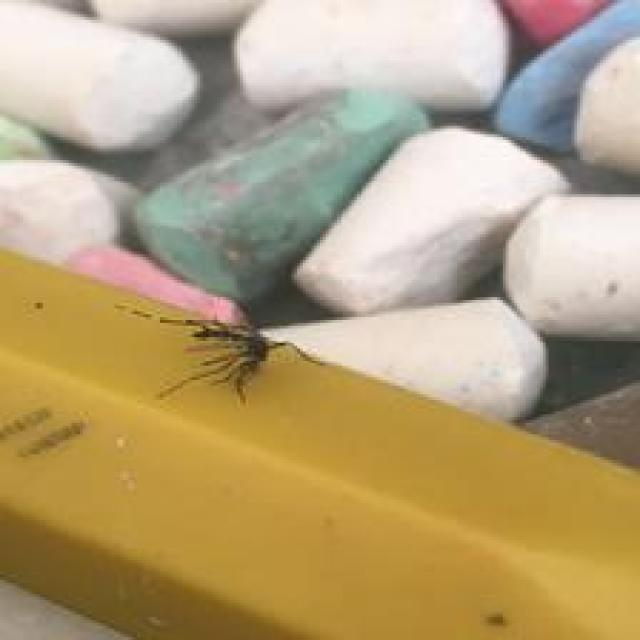Aedes albopictus: (116, 300, 304, 406)
